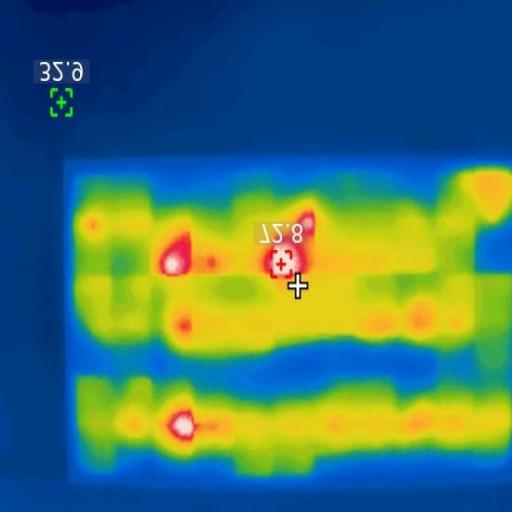hotspot: (267, 236, 305, 276), (164, 232, 194, 278), (170, 410, 196, 443), (297, 211, 318, 238)
